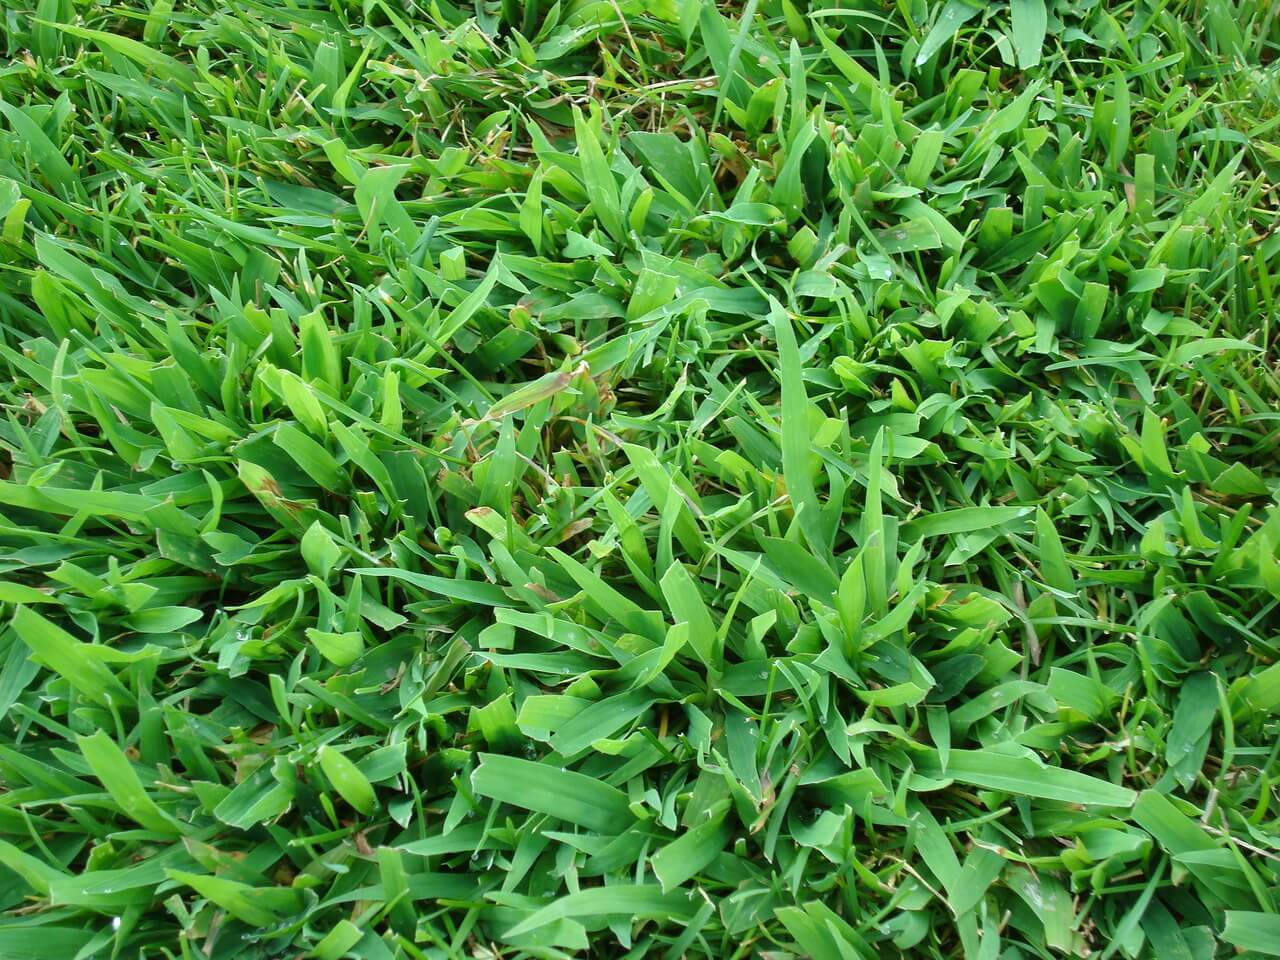crabgrass: (355, 375, 1026, 896)
